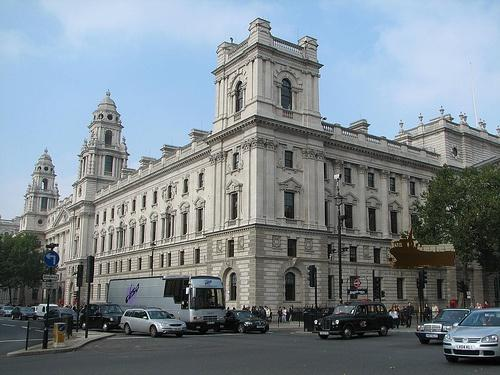tampered: (390, 227, 455, 269)
